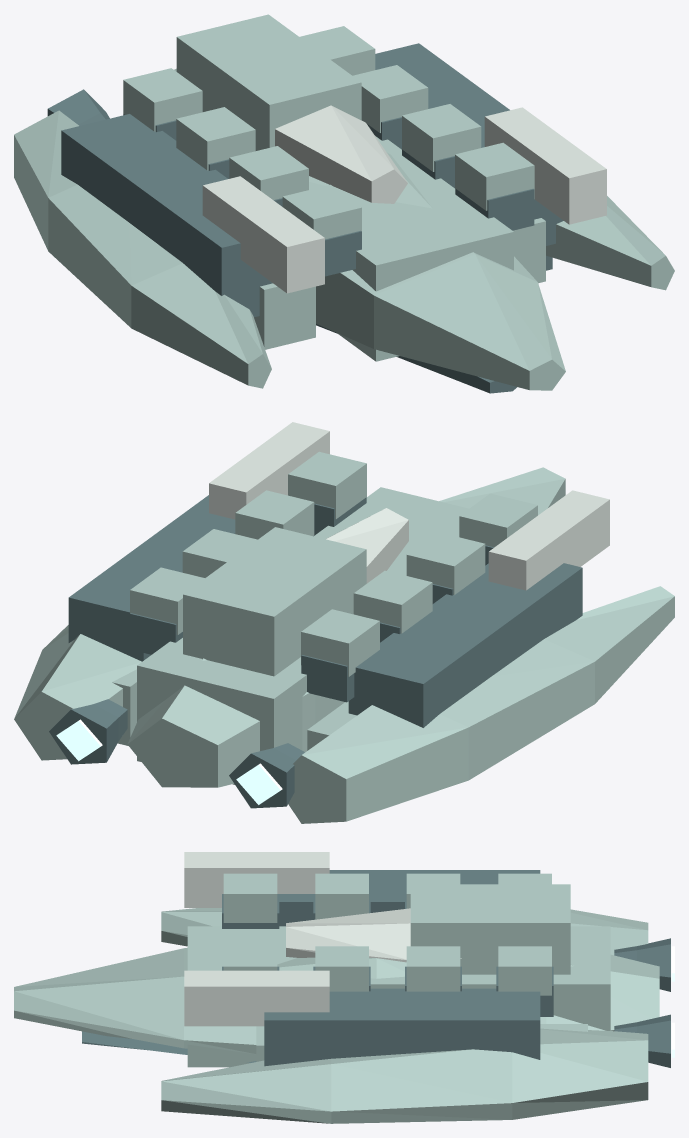
3 views of the same model, one above another, from view 1: azimuth 30°, elevation 25°; view 2: azimuth 150°, elevation 25°; view 3: azimuth 270°, elevation 25° (orthographic). The views are drawn at different scales.
Size of the model in its own units: 16.42 by 6.11 by 23.12.
